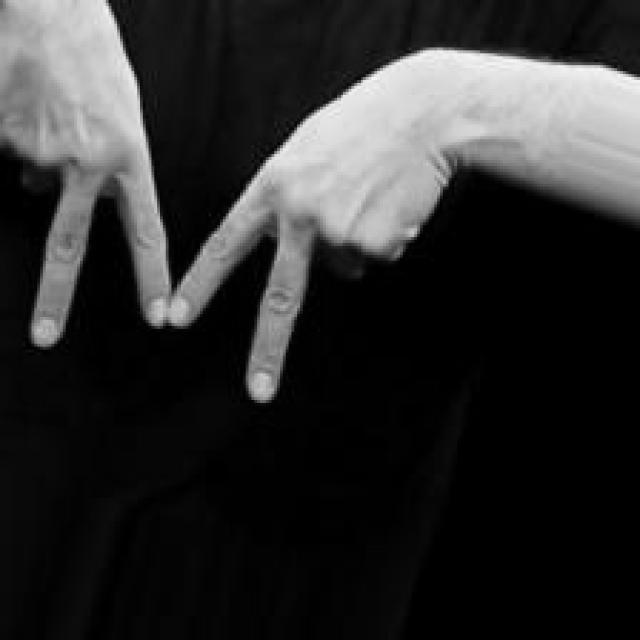M: (2, 0, 457, 409)
